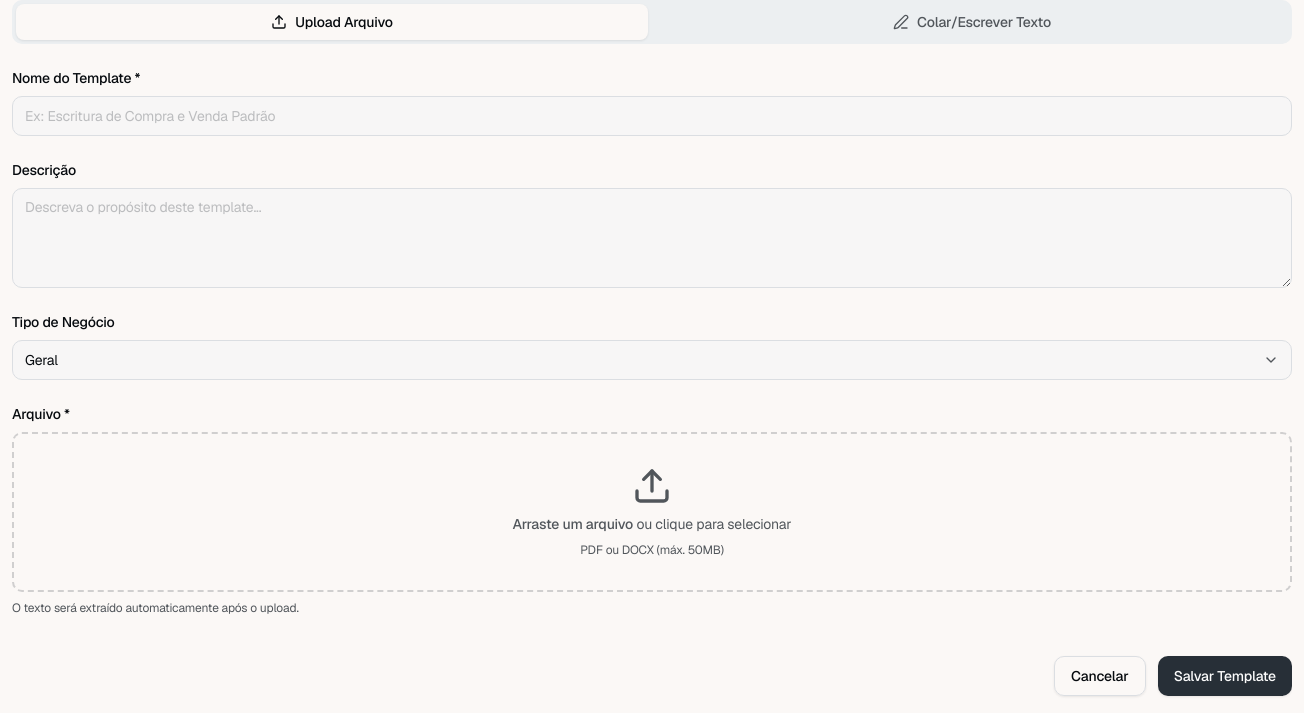
it: TemplateUploadForm › Form Validation › validates nome minimum length
The image size is (1304, 713).
Type "AB" into the field labelled "Nome do Template *".
click(652, 116); type("AB")  # box [12,96,1292,136]
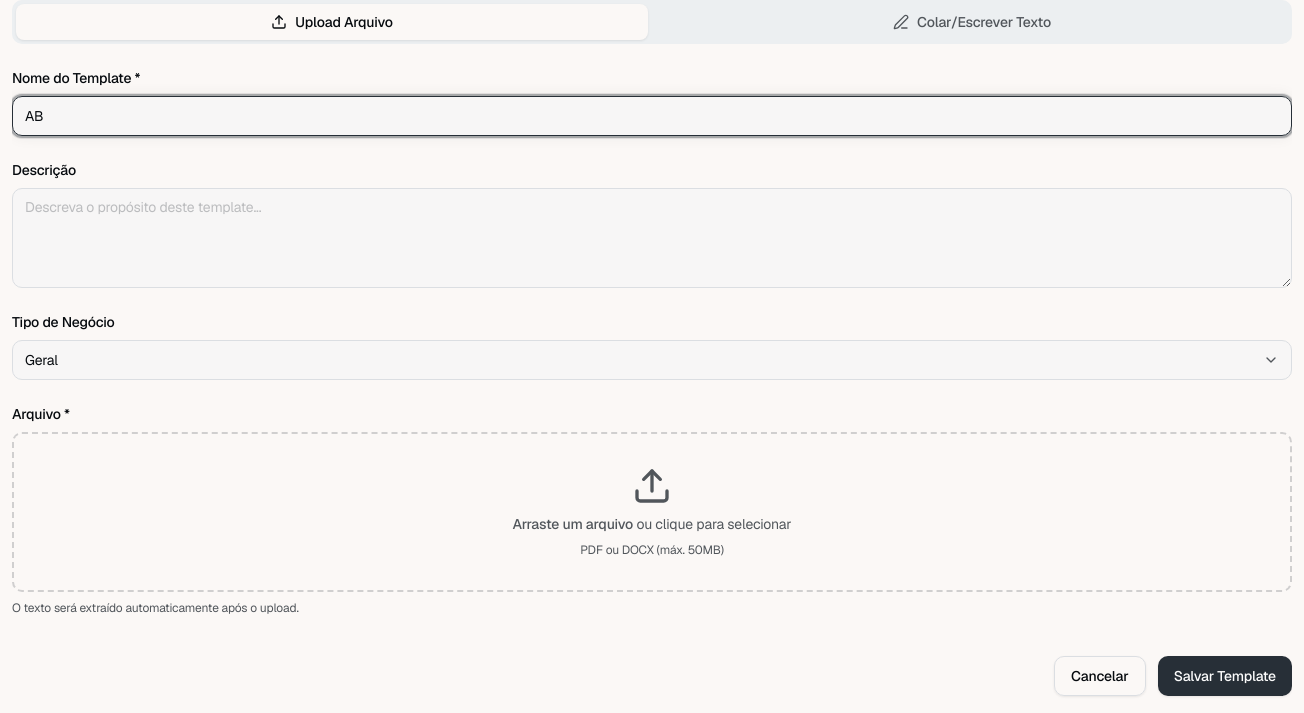
Click the button "Salvar Template".
click(1225, 676)  # box [1158,656,1292,696]
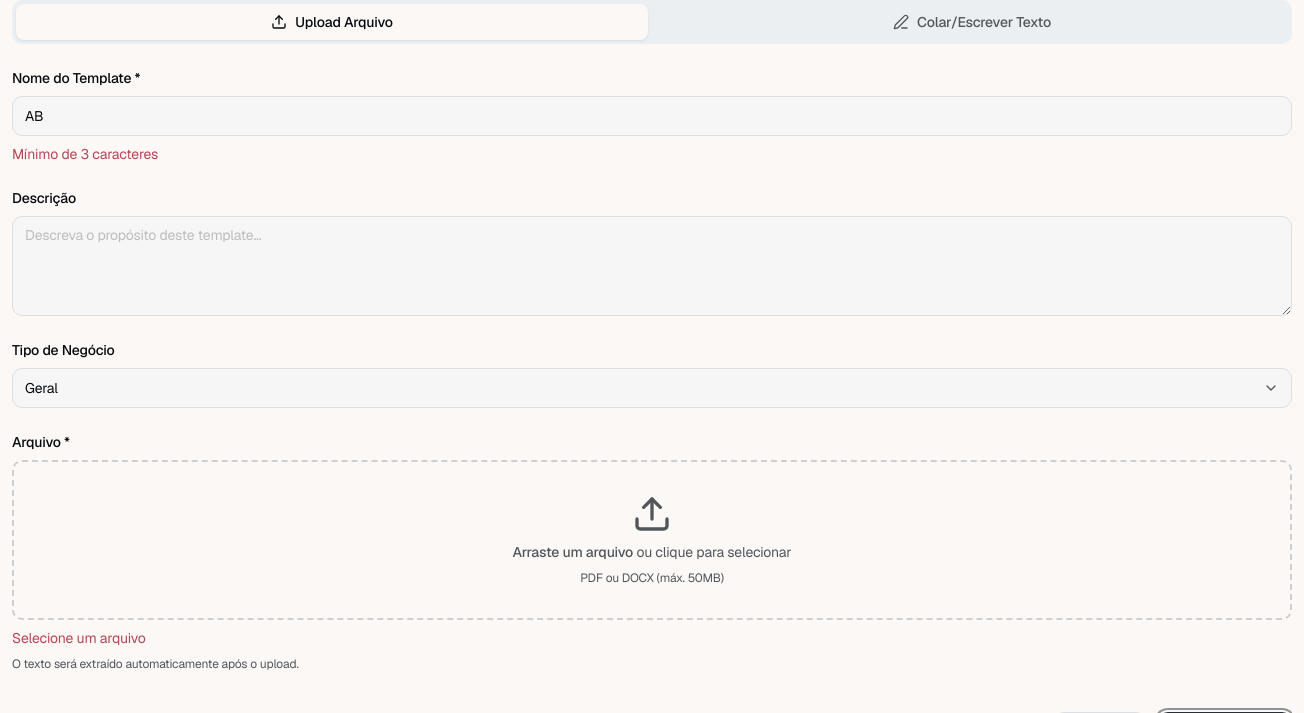
Expected: the text "Mínimo de 3 caracteres" is shown, [12,145,158,163]
